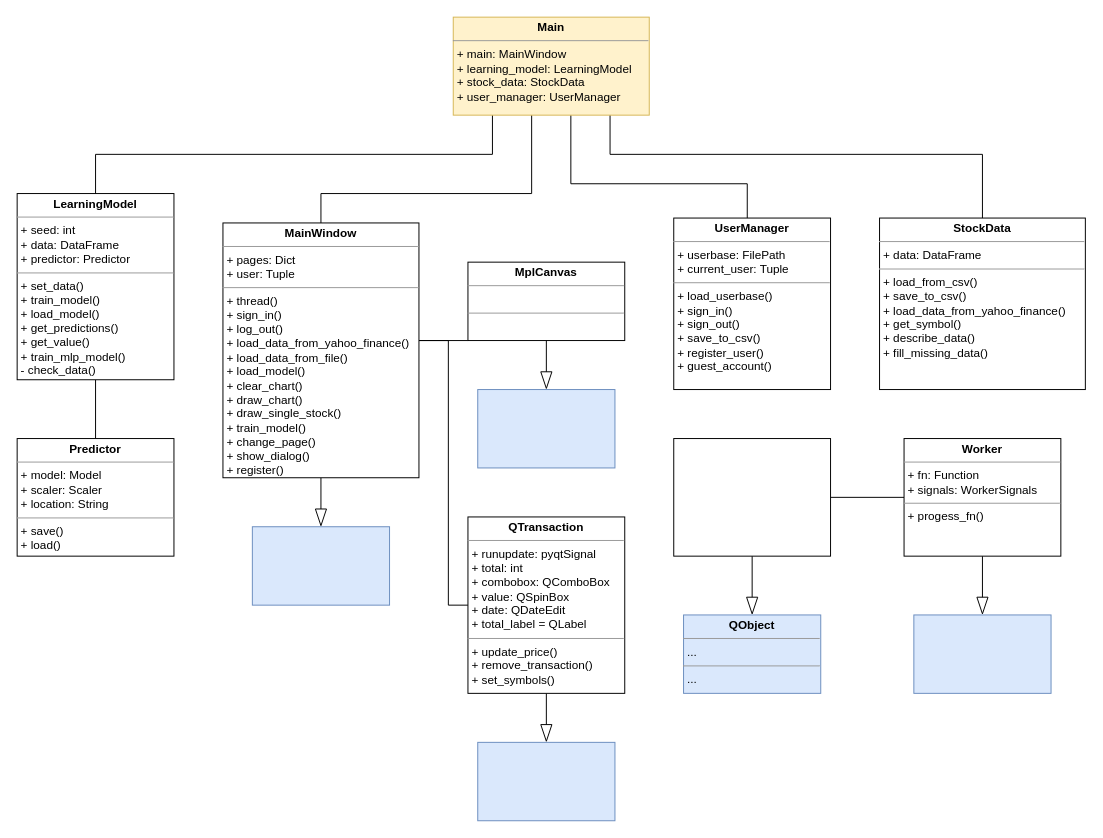
Image size: 1103x838. Some labels were removed from this diagram. Each missing label, with the centre of its shape:
FigureCanvasQTAgg ... ...: point (546, 428)
QMainWindow ... ...: point (320, 565)
QRunnable ... ...: point (982, 653)
QWidget ... ...: point (546, 781)
WorkerSignals + finished: Tuple + error: Tuple + result: Tuple + progress: Tuple: point (752, 497)
